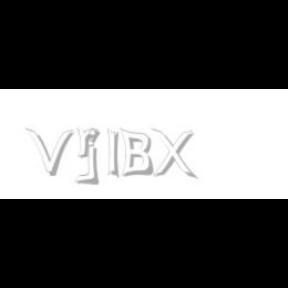B: (119, 128, 153, 178)
V: (26, 128, 74, 176)
X: (151, 128, 195, 180)
j: (84, 128, 114, 186)
l: (107, 128, 123, 180)
r: (76, 128, 104, 158)
